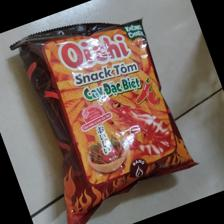Oishi_Cay: (8, 16, 201, 224)
